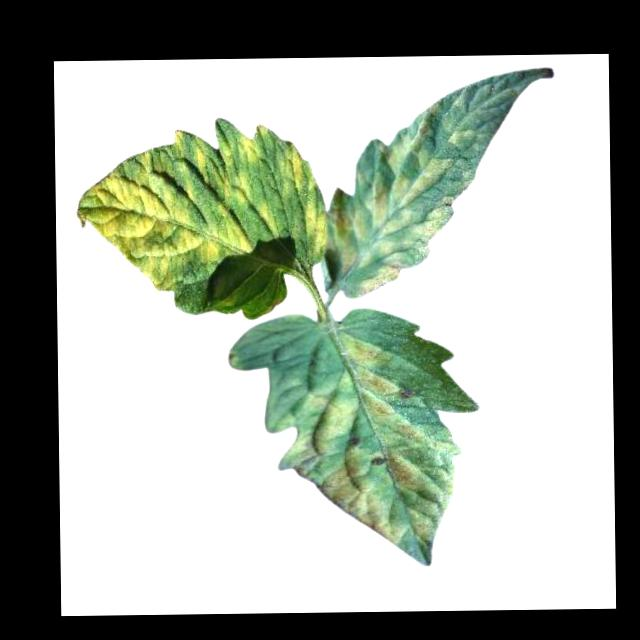Leaf_Mold: (70, 116, 329, 298), (271, 329, 464, 563), (324, 94, 474, 297)
